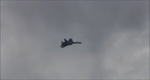maybay_muctieu: (60, 38, 83, 48)
